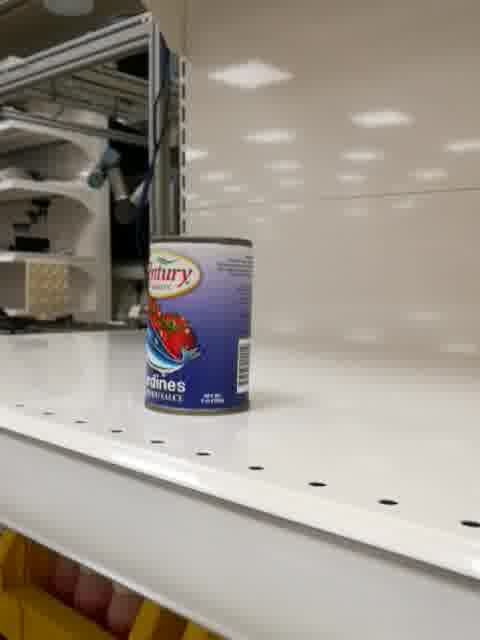sardine: (141, 233, 254, 418)
